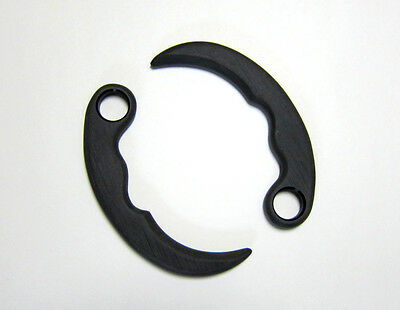knief: (73, 78, 253, 288)
